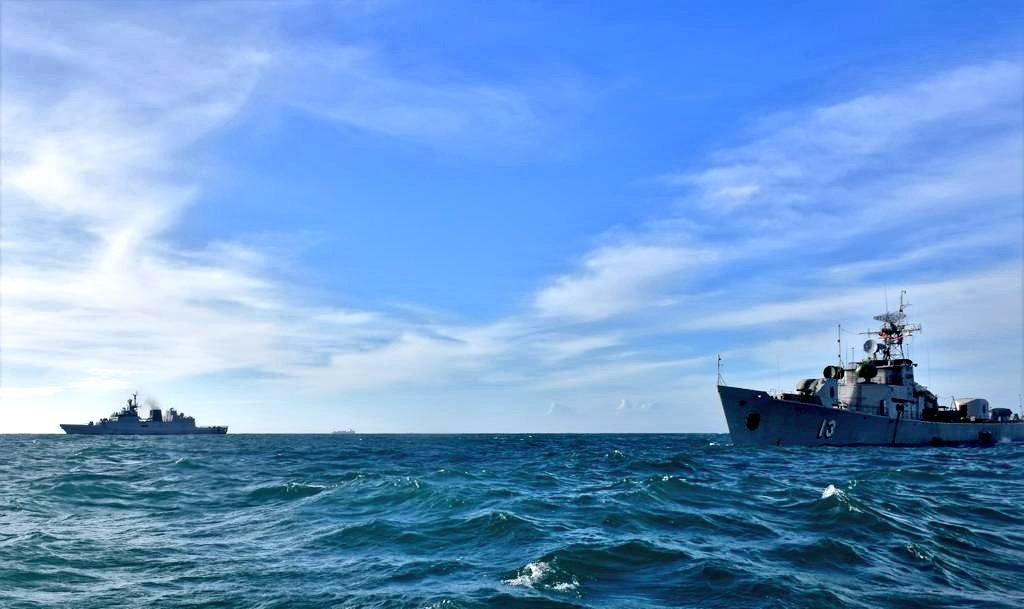MIL_Ship: (712, 282, 1024, 452), (53, 388, 238, 438)
